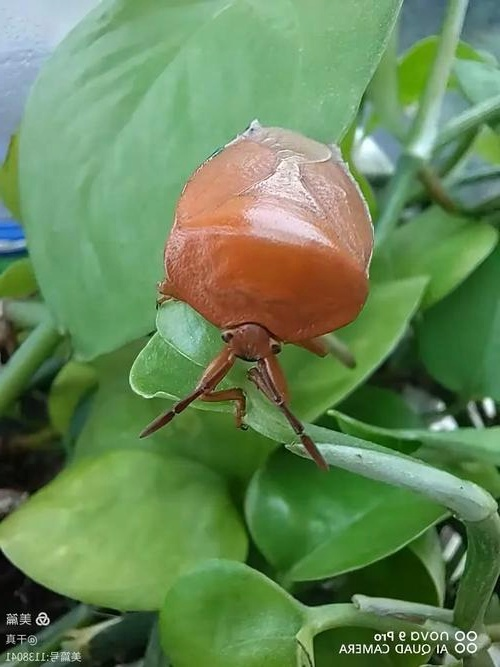Stink_Bug: (170, 109, 356, 421)
